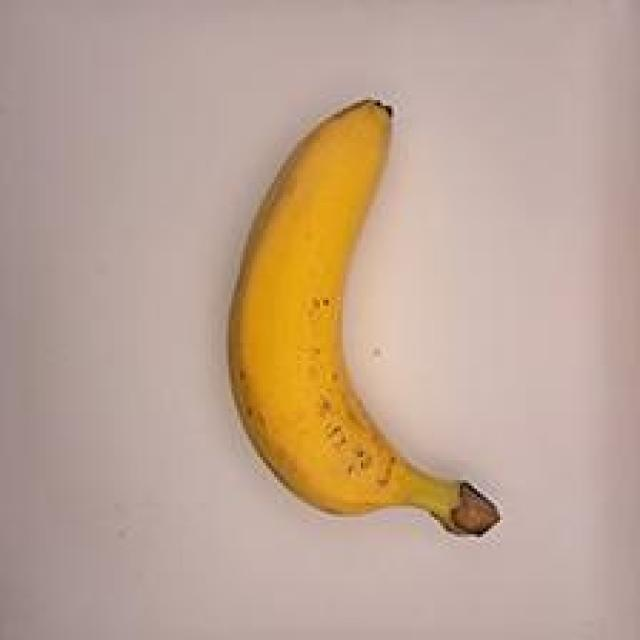ripe: (197, 62, 518, 552)
